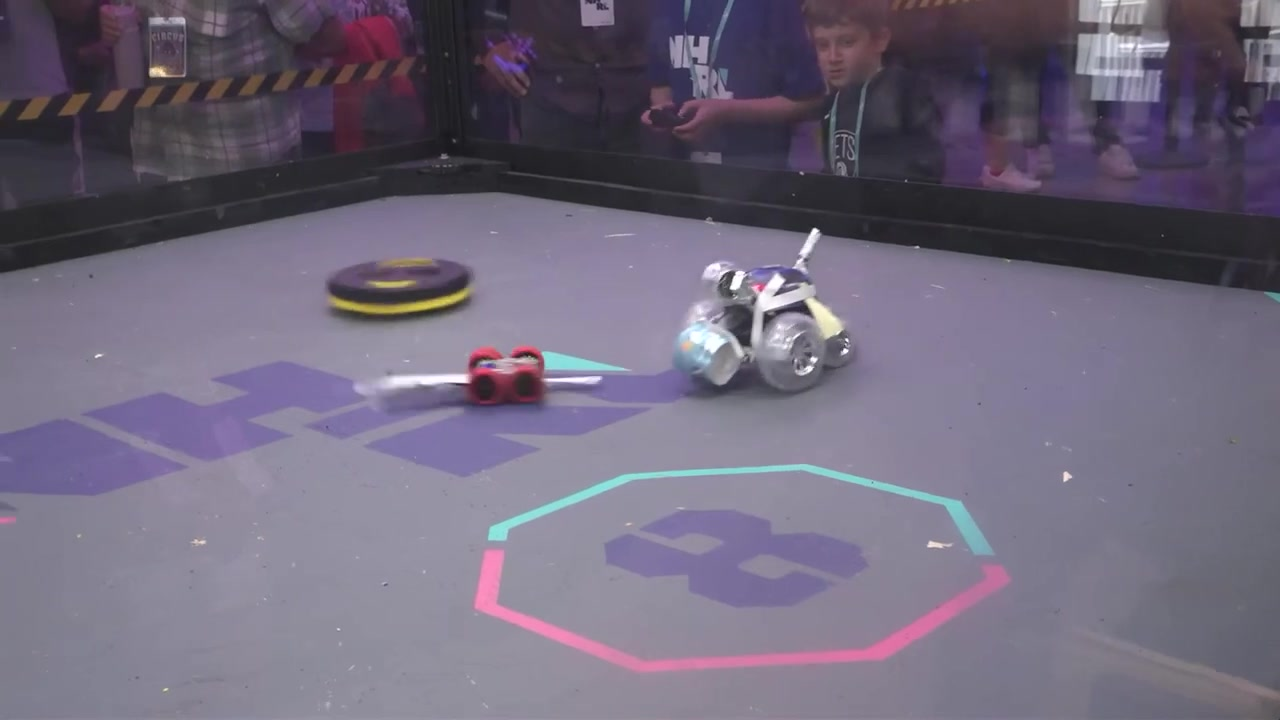combatbot: (673, 262, 862, 396), (323, 255, 478, 315)
minibot: (462, 345, 551, 410)
